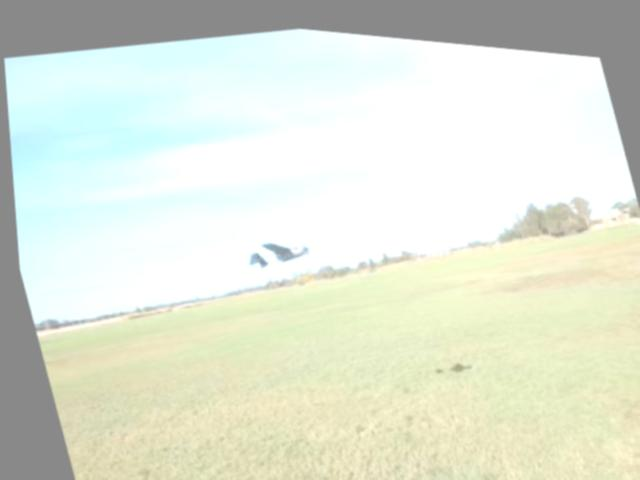uav: (232, 216, 318, 275)
